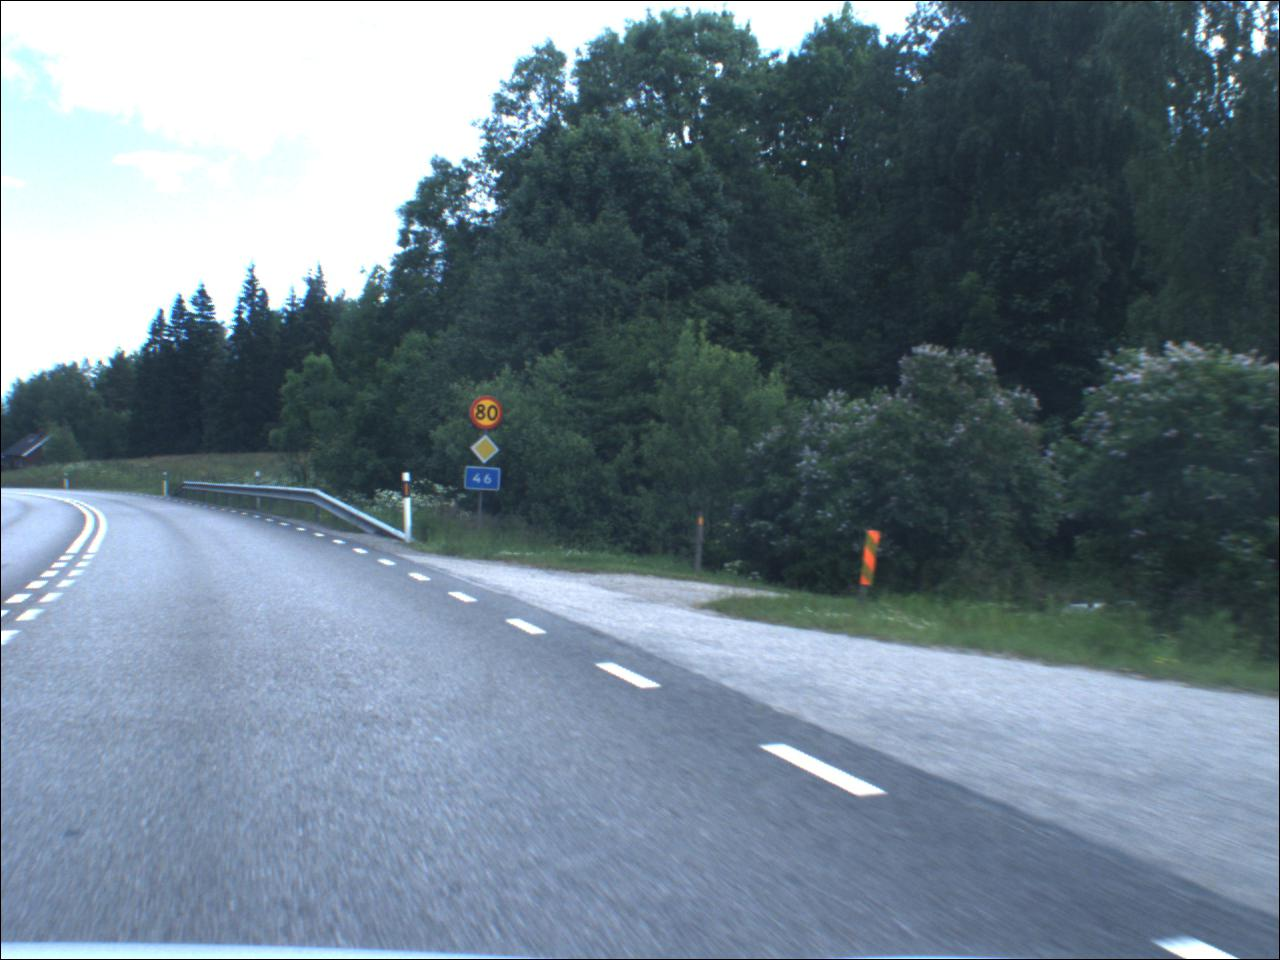80_SIGN: (471, 397, 506, 433)
PRIORITY_ROAD: (471, 436, 502, 467)
